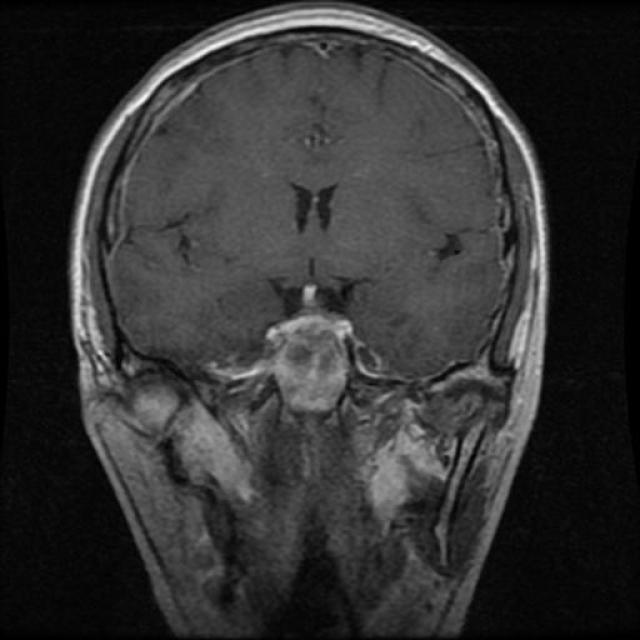pituitary: (248, 275, 374, 418)
